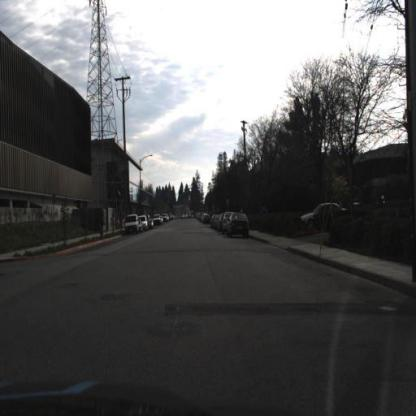car: (303, 200, 345, 229), (226, 212, 250, 240), (125, 214, 139, 237)
